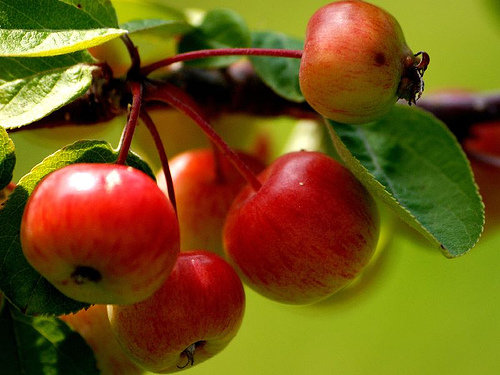apple: (216, 140, 384, 304), (22, 158, 180, 310), (293, 1, 436, 120)
